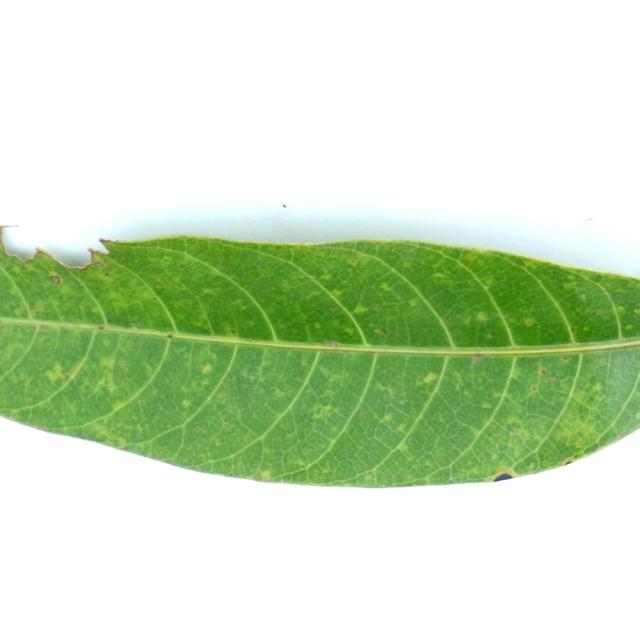Mango: (0, 226, 639, 486)
Powdery_Mildew: (43, 362, 69, 385), (421, 367, 441, 391), (317, 363, 337, 379), (92, 423, 110, 439), (316, 405, 337, 418), (461, 250, 481, 263), (99, 356, 116, 370), (352, 303, 368, 314), (470, 427, 486, 438), (475, 311, 490, 322), (373, 327, 388, 337), (201, 363, 213, 375), (591, 382, 603, 394), (98, 237, 114, 246), (398, 442, 411, 453), (215, 390, 228, 401), (273, 388, 287, 398), (454, 377, 464, 391), (408, 298, 421, 308), (481, 276, 494, 286), (342, 327, 355, 337), (49, 274, 62, 284), (379, 282, 393, 291), (562, 282, 576, 291), (259, 470, 271, 480), (381, 414, 393, 423), (523, 318, 535, 327), (432, 272, 447, 279), (319, 273, 332, 281), (330, 289, 343, 297), (480, 401, 493, 409), (545, 375, 558, 383), (181, 399, 192, 408), (472, 353, 483, 362), (571, 449, 582, 458), (24, 264, 36, 272), (623, 337, 639, 343), (365, 471, 375, 480), (241, 436, 251, 445), (91, 306, 102, 314), (528, 361, 539, 369), (194, 425, 205, 433), (37, 327, 48, 335), (201, 288, 213, 295), (527, 463, 537, 471), (459, 446, 469, 454), (511, 428, 522, 435), (304, 294, 315, 301), (322, 462, 330, 471), (329, 341, 340, 347), (93, 261, 104, 267), (617, 305, 625, 313), (313, 322, 321, 330), (594, 275, 603, 282), (304, 448, 313, 455), (561, 355, 571, 361), (161, 256, 171, 262), (484, 333, 492, 340), (580, 293, 587, 301), (198, 454, 206, 461), (139, 399, 146, 407), (348, 258, 357, 264), (468, 280, 477, 286), (297, 243, 306, 249), (575, 442, 582, 449), (0, 324, 7, 331), (216, 261, 223, 268), (298, 462, 306, 468), (185, 299, 193, 305), (229, 328, 236, 334), (625, 325, 633, 330), (131, 325, 139, 330), (571, 326, 577, 332), (582, 326, 589, 331), (155, 287, 162, 292), (288, 331, 293, 338), (531, 386, 537, 391), (330, 306, 336, 311), (152, 296, 158, 301), (167, 333, 173, 338), (636, 309, 640, 316), (97, 326, 104, 330), (637, 411, 640, 419), (104, 272, 109, 276), (78, 283, 83, 287)
